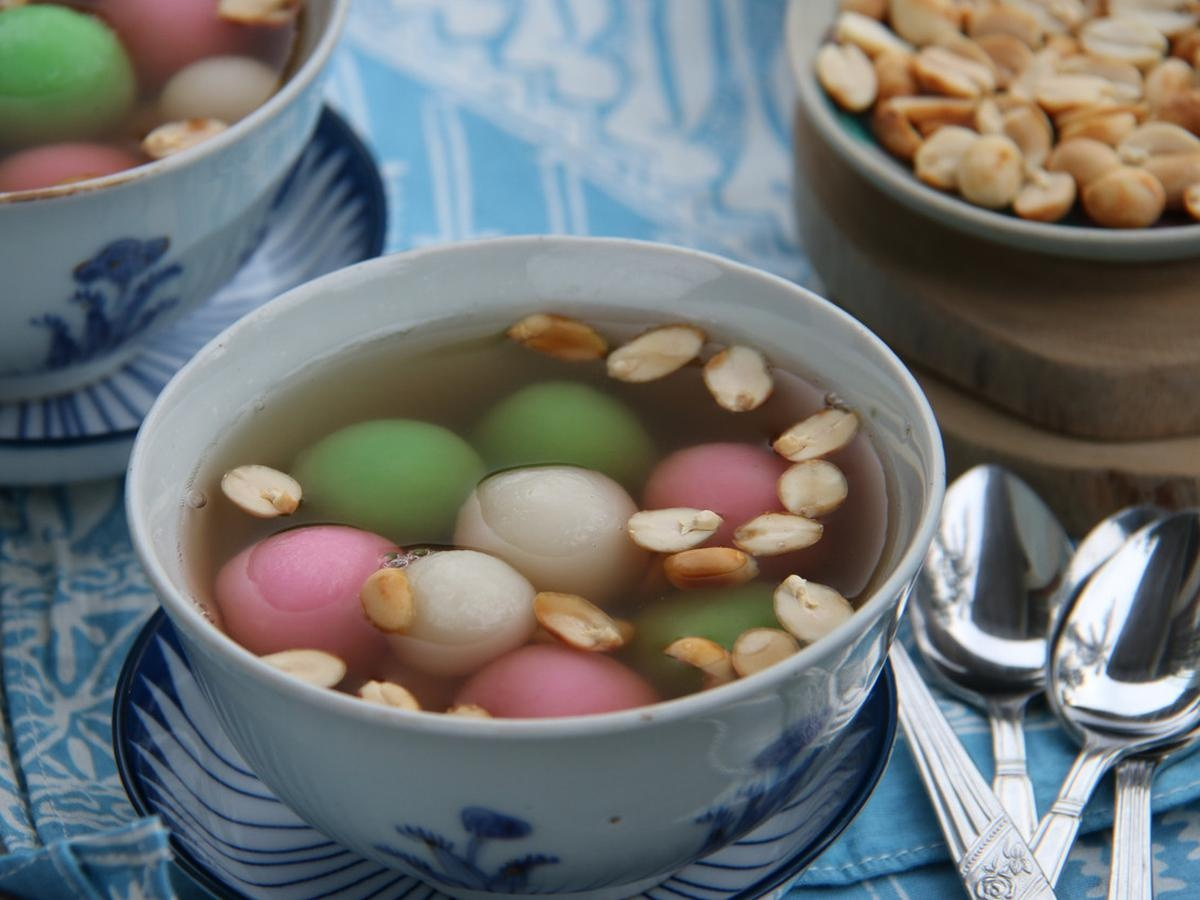ronde: (179, 306, 893, 718)
